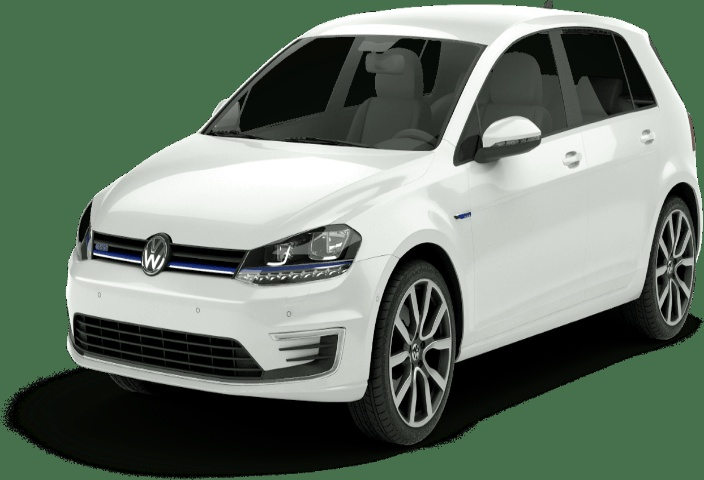car: (54, 1, 704, 422)
